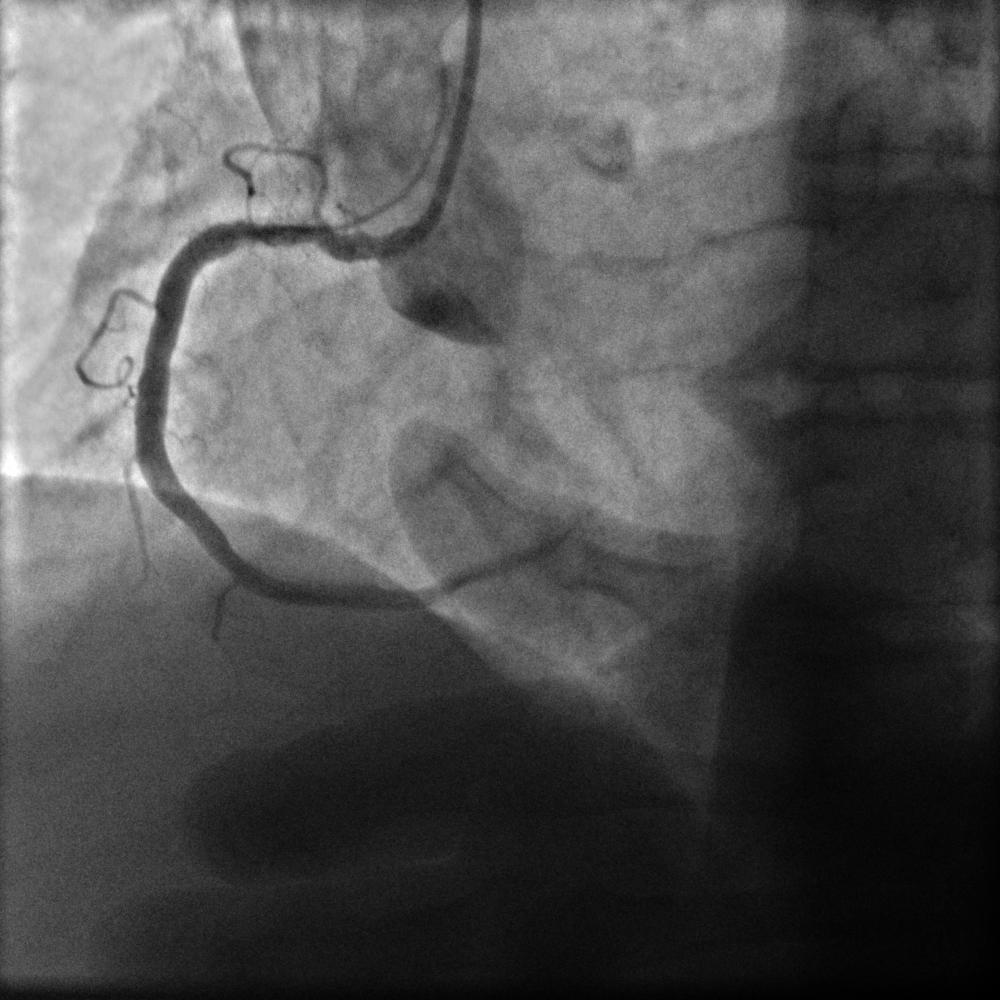Stenosis: (237, 208, 340, 270)
